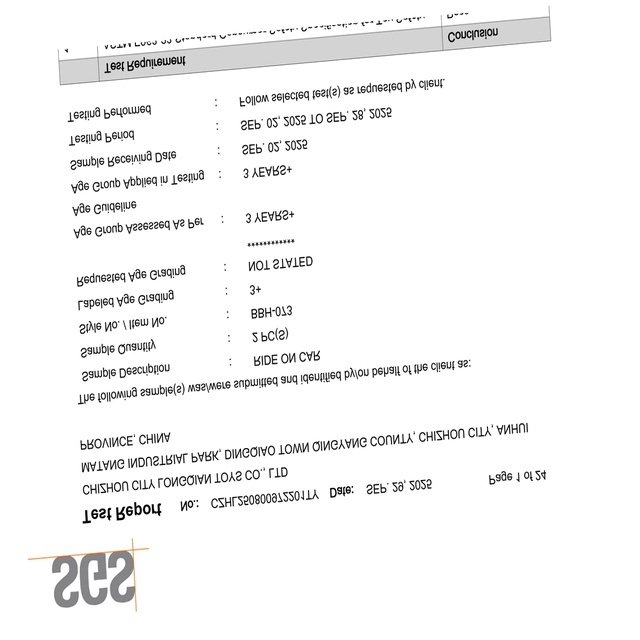sgs: (51, 550, 135, 608)
